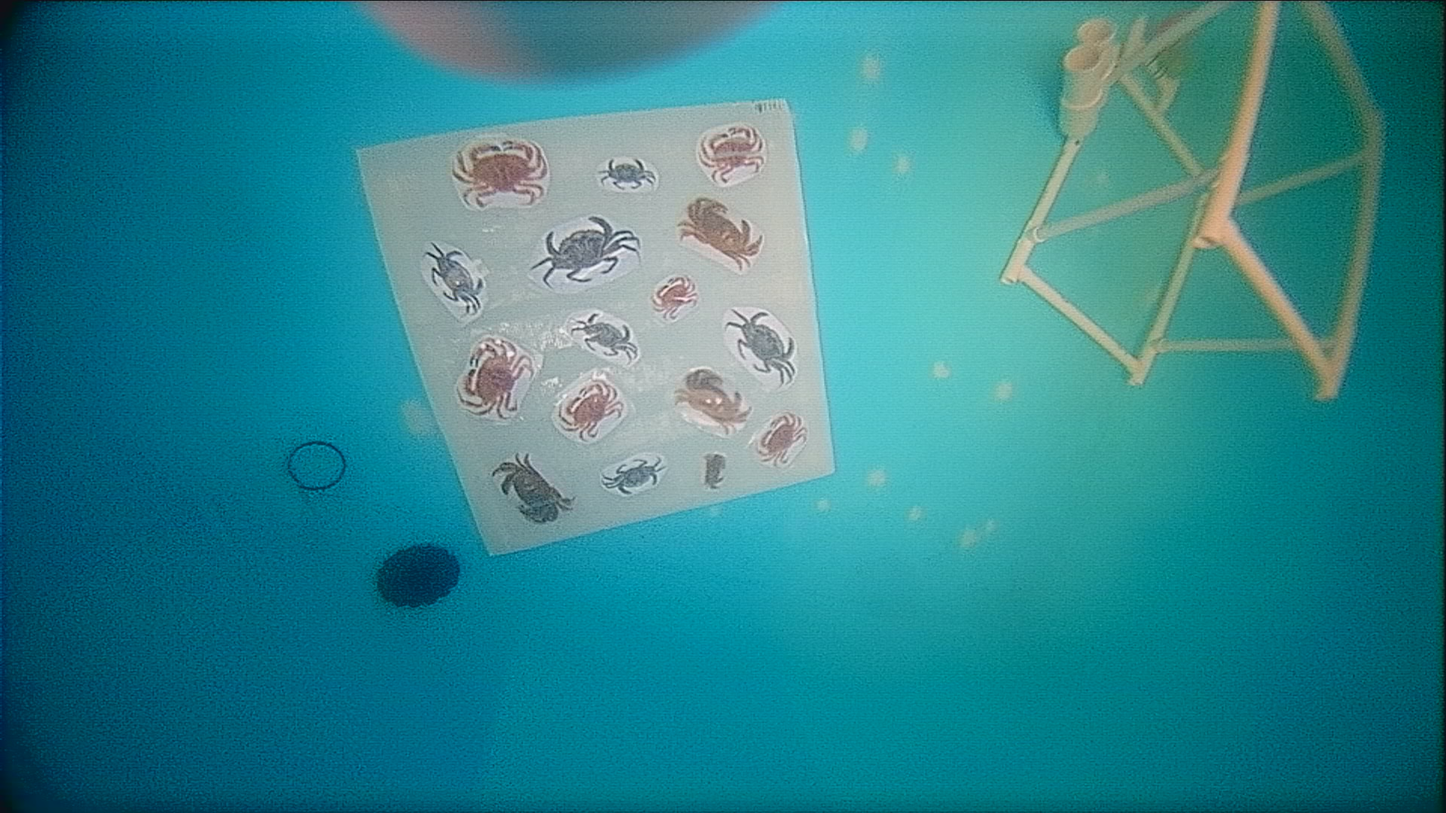GreenCrab: (532, 216, 636, 287), (725, 311, 794, 385), (427, 243, 480, 312), (603, 456, 665, 495), (599, 160, 655, 188)
